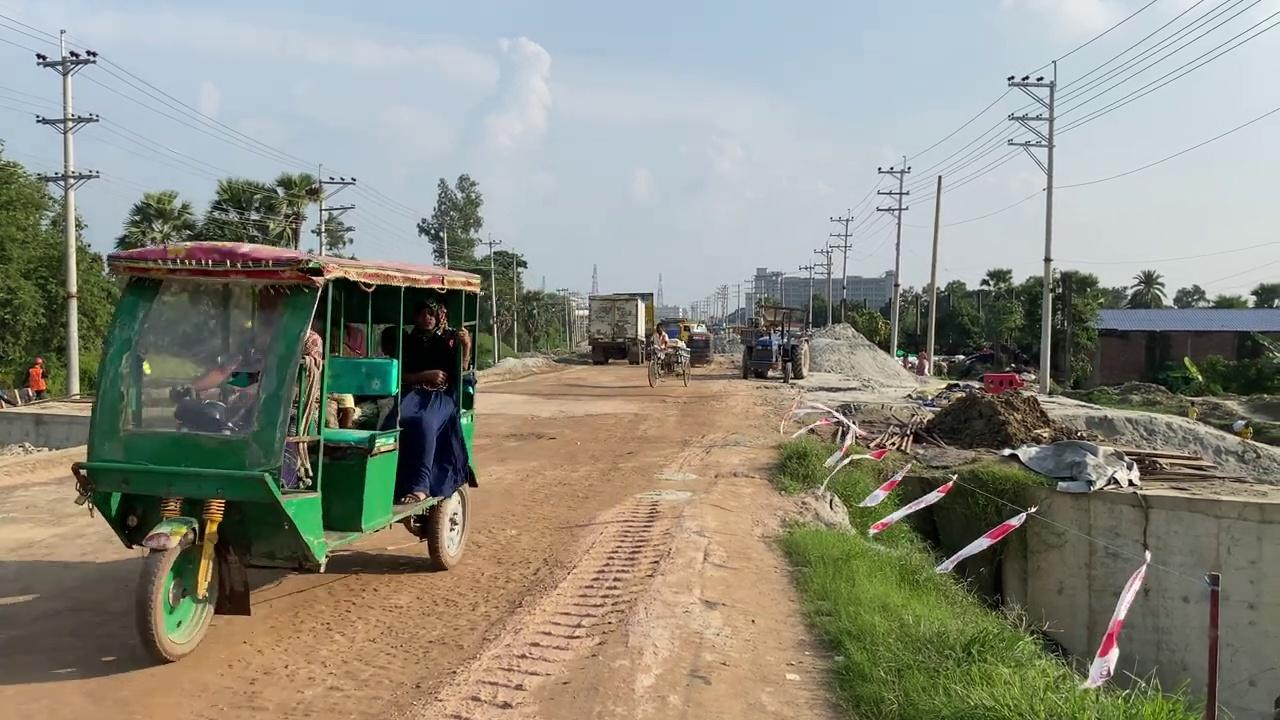Pole: (924, 174, 942, 375)
Pothole: (885, 469, 1052, 604)
Traffic-sign: (415, 171, 483, 270), (113, 188, 197, 250), (1125, 267, 1166, 308)
Tree: (71, 239, 482, 663), (739, 304, 809, 382), (586, 292, 653, 365), (659, 316, 712, 366)
